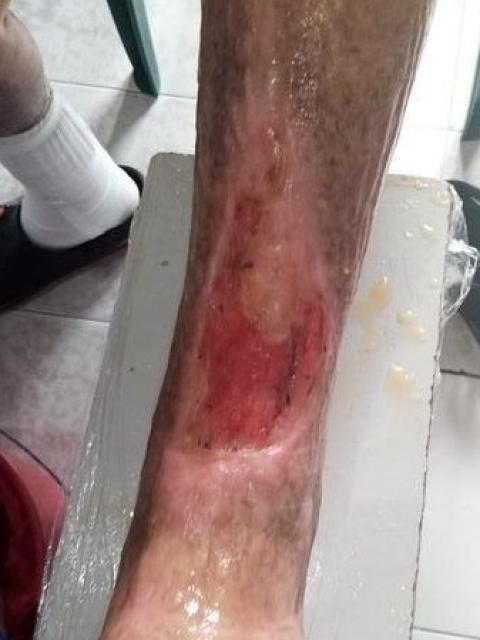wound: (184, 187, 340, 465)
